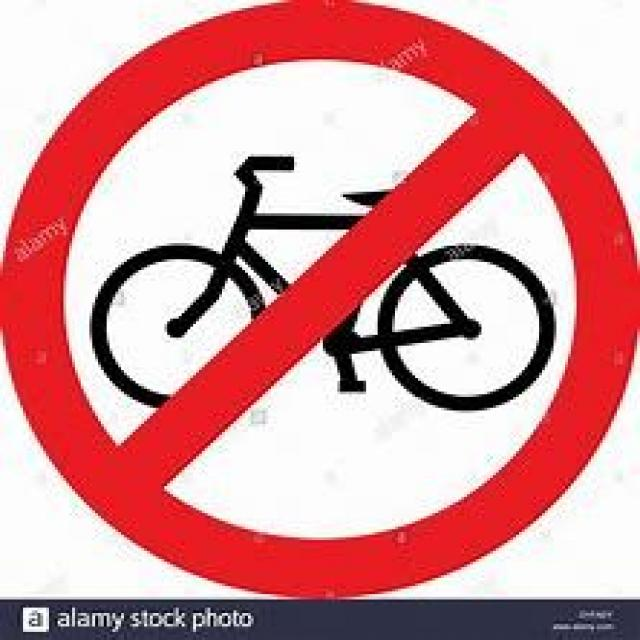CYCLE_PROHIBITED: (0, 0, 637, 597)
